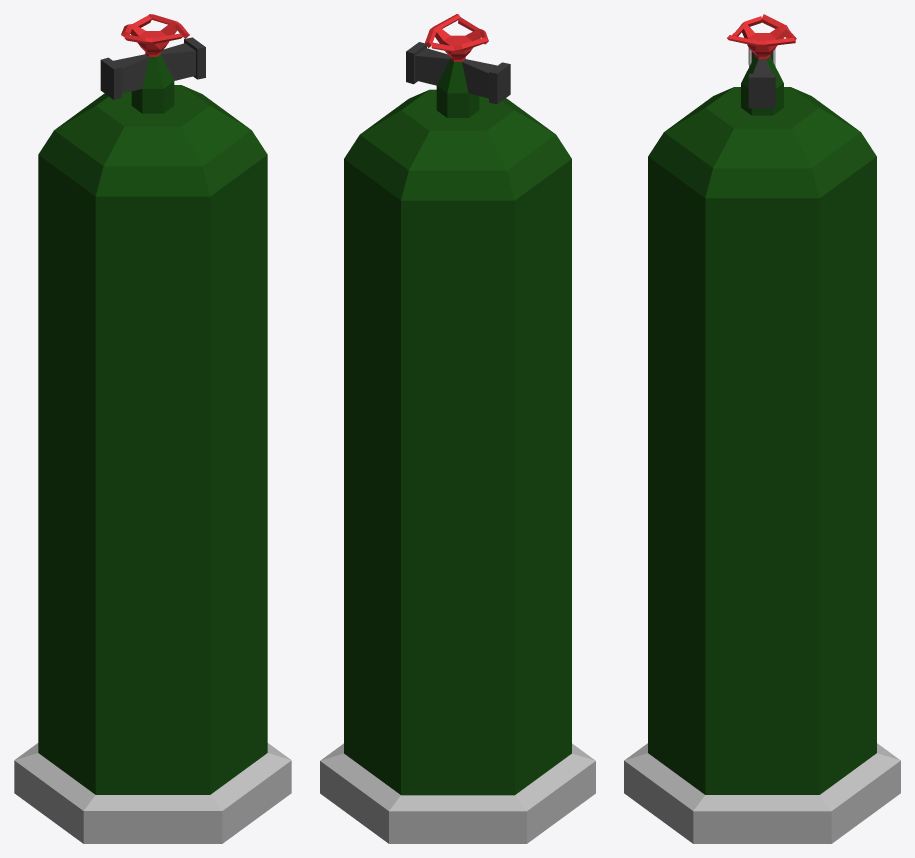
File: oxygenBottle.fbx
3 views of the same model, side by side, from view 1: azimuth 30°, elevation 25°; view 2: azimuth 150°, elevation 25°; view 3: azimuth 270°, elevation 25° (orthographic).
Visible parts, largest first — view 1: OxygenBottle; view 2: OxygenBottle; view 3: OxygenBottle.
Part boxes in pixels (x1,y1,x2,y2): OxygenBottle: (14, 14, 291, 843); OxygenBottle: (320, 14, 595, 843); OxygenBottle: (624, 14, 900, 843).
Size of the model in its own units: 27.71 by 97.71 by 31.99.
